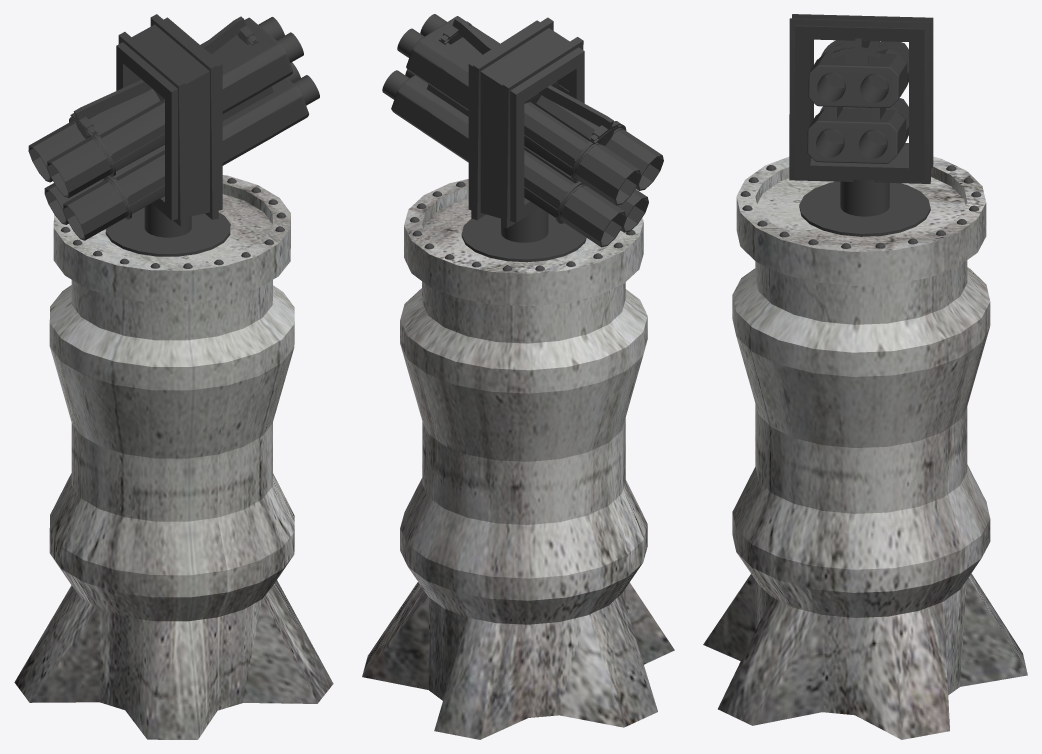
Rendered from Tower_Concrete_Heavy.fbx.
3 renders of one model, left to right at view 1: azimuth 30°, elevation 25°; view 2: azimuth 150°, elevation 25°; view 3: azimuth 270°, elevation 25°, orthographic. The views are drawn at different scales.
Parts seen in each view (by area): view 1: polySurface191, polySurface213; view 2: polySurface191, polySurface213; view 3: polySurface191, polySurface213.
Part boxes in pixels (x1,y1,x2,y2): polySurface191: [14, 175, 333, 739]; polySurface213: [28, 14, 319, 256]; polySurface191: [362, 179, 674, 739]; polySurface213: [382, 14, 663, 262]; polySurface191: [703, 156, 1027, 739]; polySurface213: [789, 14, 933, 236].
Bounding box in the file's own units: 282 × 626 × 277.
1 material, 1 textured.
